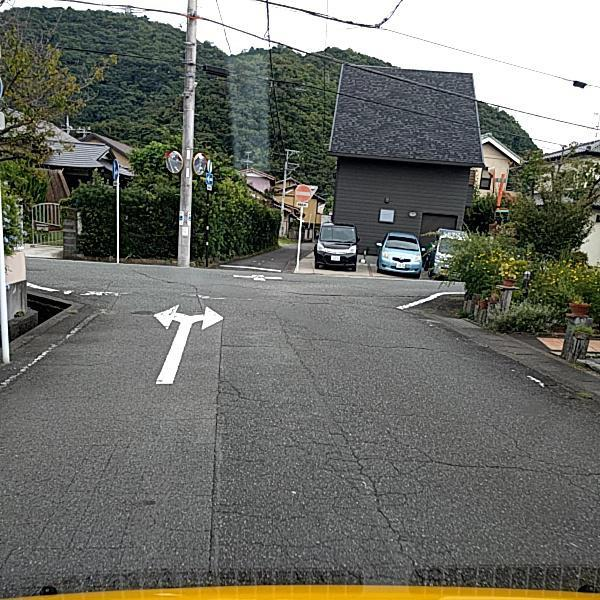D00: (493, 430, 597, 494)
D10: (426, 453, 597, 483), (313, 329, 432, 355), (223, 340, 278, 352)
D20: (199, 375, 434, 576)
